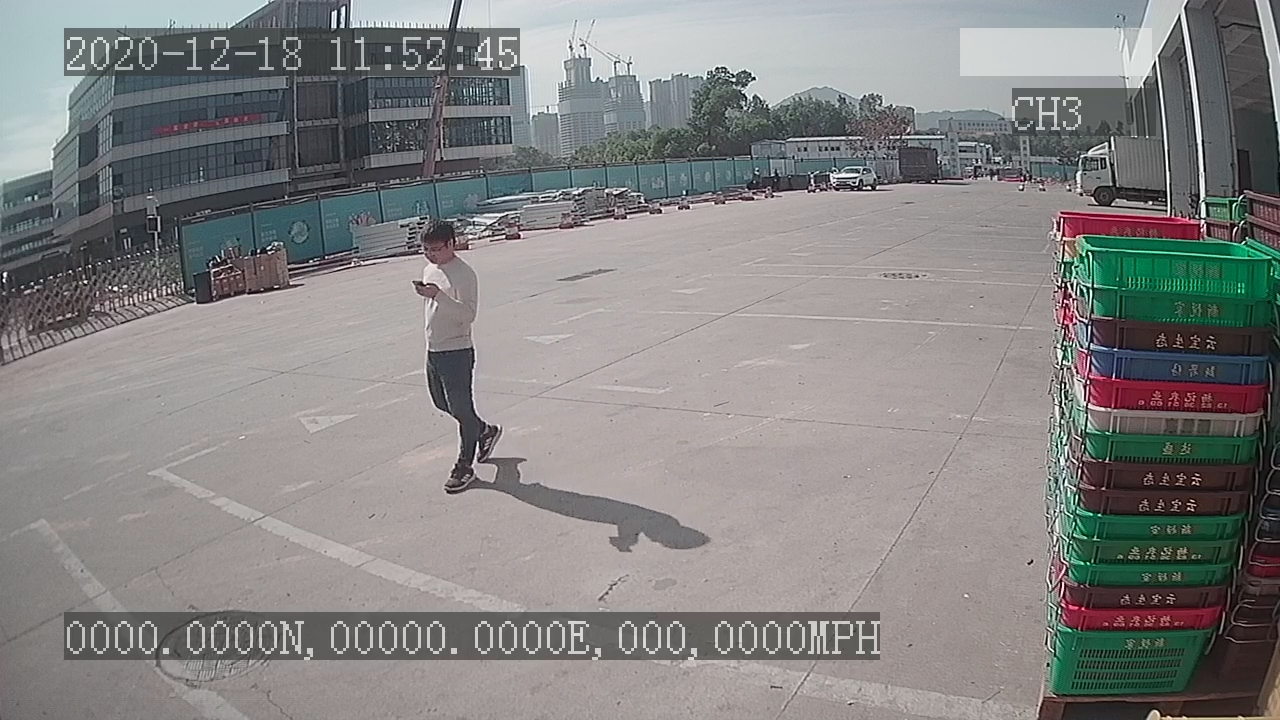person: (401, 215, 511, 501)
